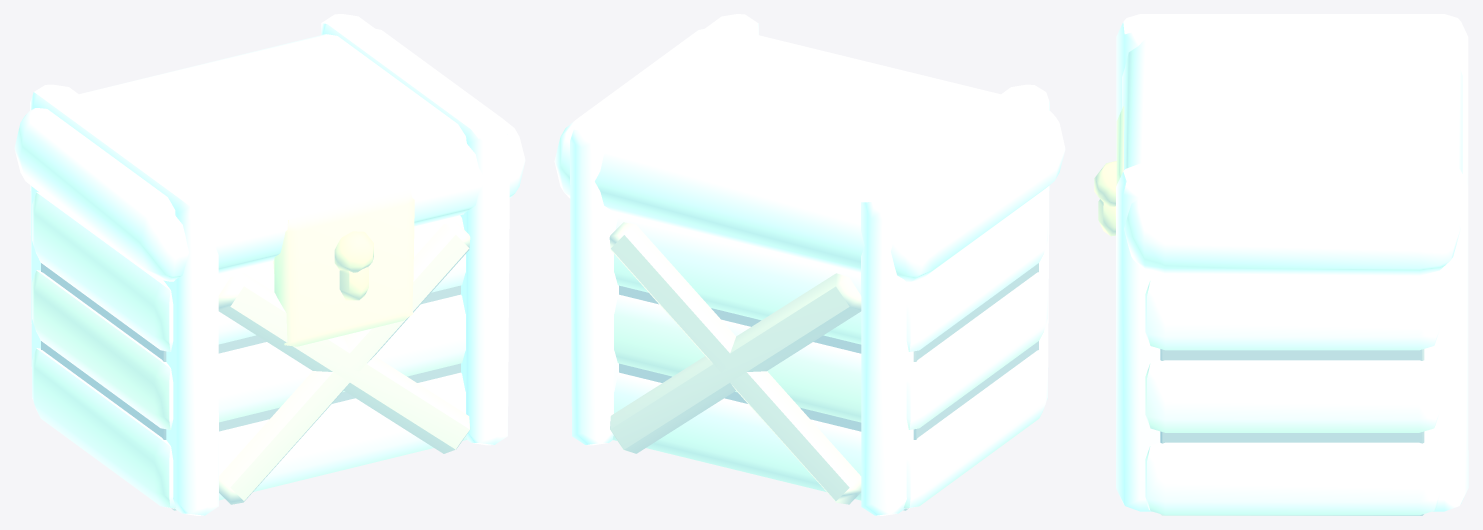
File: props__Crate.glb
3 renders of one model, left to right at view 1: azimuth 30°, elevation 25°; view 2: azimuth 150°, elevation 25°; view 3: azimuth 270°, elevation 25°, orthographic. The views are drawn at different scales.
Parts seen in each view (by area): view 1: Crate; view 2: Crate; view 3: Crate.
Part boxes in pixels (x1,y1,x2,y2): Crate: [14, 14, 525, 515]; Crate: [554, 14, 1065, 515]; Crate: [1094, 14, 1468, 515].
Bounding box in the file's own units: 3.57 × 2.93 × 2.88.
